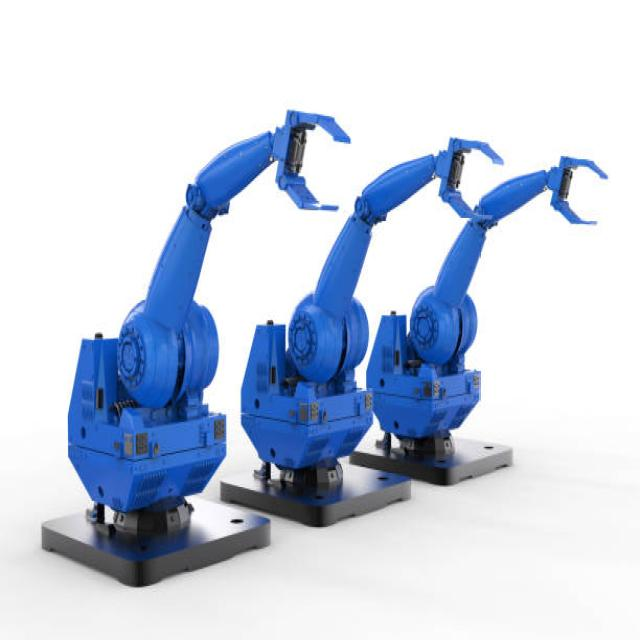Robotic-arm: (46, 100, 344, 538), (246, 130, 496, 506), (394, 150, 613, 474)
